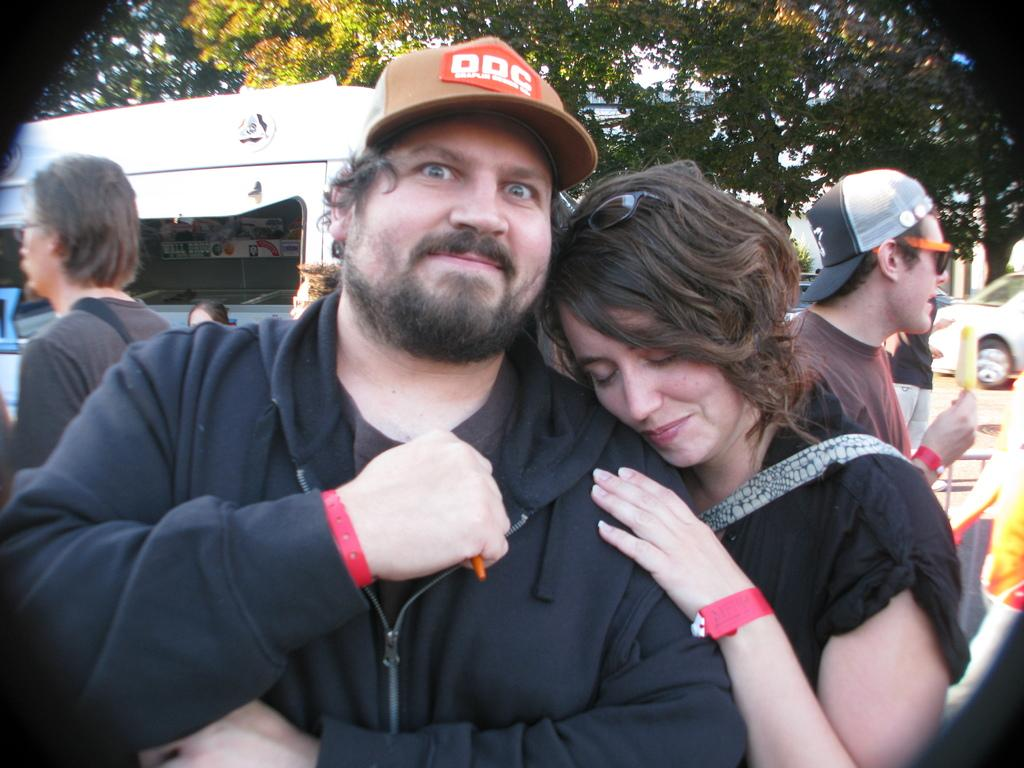Hat: (354, 35, 596, 189), (795, 169, 934, 304)
